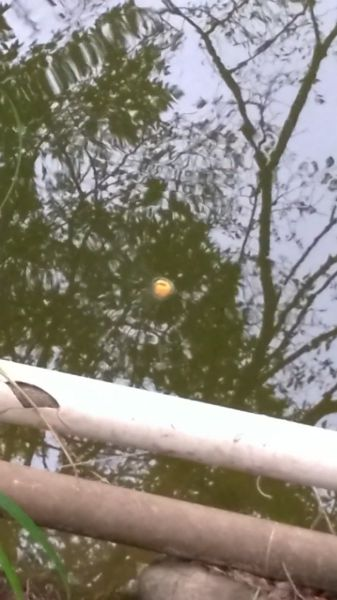eggs: (150, 272, 176, 300)
